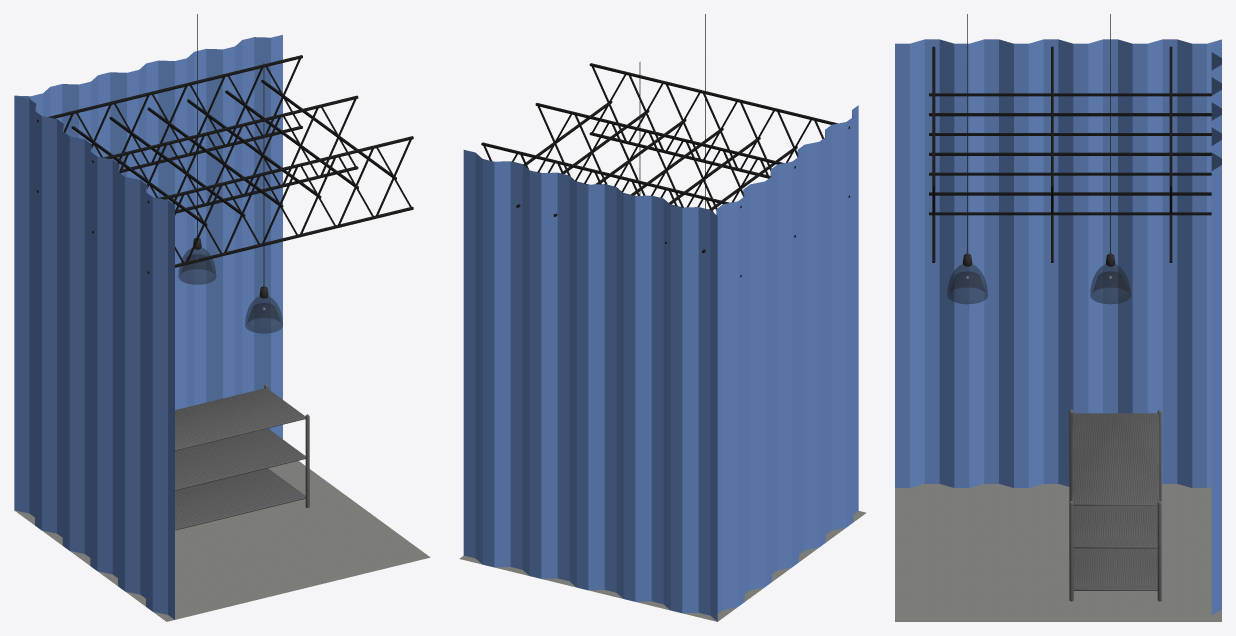
File: warehouse.glb
3 views of the same model, side by side, from view 1: azimuth 30°, elevation 25°; view 2: azimuth 150°, elevation 25°; view 3: azimuth 270°, elevation 25° (orthographic). The views are drawn at different scales.
Parts seen in each view (by area): view 1: Plane.002, Plane.001, Cube, Cube.003, Cube.002, light-modules; view 2: Plane.002, Cube.003, Cube.002, Plane.001; view 3: Plane.002, Plane.001, Cube, Cube.002, light-modules, Cube.003, Cube.001.
Part boxes in pixels (x1,y1,x2,y2): Plane.002: (14,35,282,619); Plane.001: (14,460,430,621); Cube: (175,388,305,530); Cube.003: (37,55,413,273); Cube.002: (71,79,396,226); light-modules: (178,14,282,333); Plane.002: (463,105,858,621); Cube.003: (481,63,849,277); Cube.002: (516,101,797,253); Plane.001: (459,511,866,621); Plane.002: (895,39,1221,615); Plane.001: (895,484,1221,621); Cube: (1071,413,1159,590); Cube.002: (929,93,1211,215); light-modules: (947,14,1130,303); Cube.003: (932,46,1172,262); Cube.001: (1069,409,1161,601).
Size of the model in its own units: 16.06 by 29.11 by 16.
8 materials, 2 textured.
